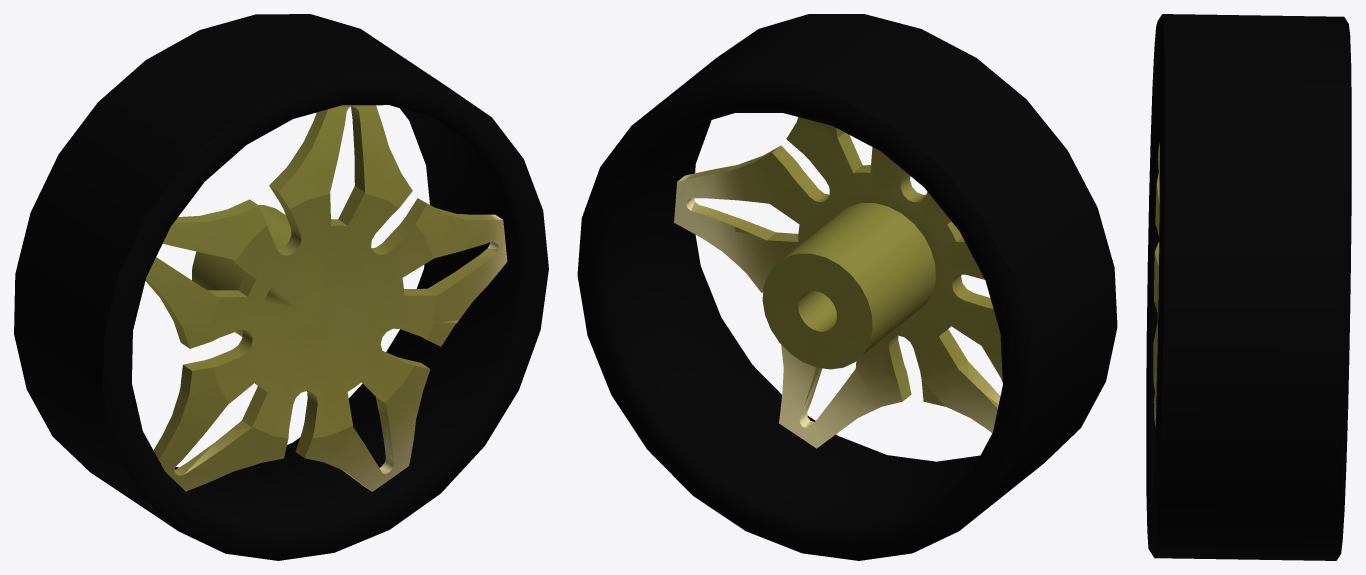
The model's file is rueda4.obj.
3 views of the same model, side by side, from view 1: azimuth 30°, elevation 25°; view 2: azimuth 150°, elevation 25°; view 3: azimuth 270°, elevation 25° (orthographic). The views are drawn at different scales.
Visible parts, largest first — view 1: rueda1.001_Color_008.008, rueda1.001_Color_001.004, rueda1.001_Gray8.009; view 2: rueda1.001_Color_008.008, rueda1.001_Color_001.004; view 3: rueda1.001_Color_008.008, rueda1.001_Color_001.004.
Boxes of the visible parts, x1,y1,x2,y2 form: rueda1.001_Color_008.008: (14, 14, 548, 560); rueda1.001_Color_001.004: (122, 93, 534, 543); rueda1.001_Gray8.009: (297, 287, 345, 340); rueda1.001_Color_008.008: (577, 14, 1117, 560); rueda1.001_Color_001.004: (592, 102, 1012, 544); rueda1.001_Color_008.008: (1146, 14, 1351, 560); rueda1.001_Color_001.004: (1146, 35, 1159, 536).
Size of the model in its own units: 0.7827 by 0.7847 by 0.2943.
